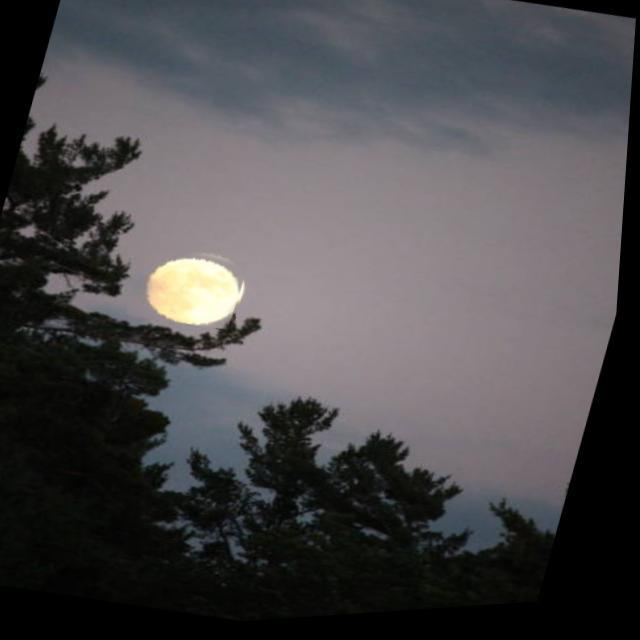moon: (126, 232, 256, 340)
